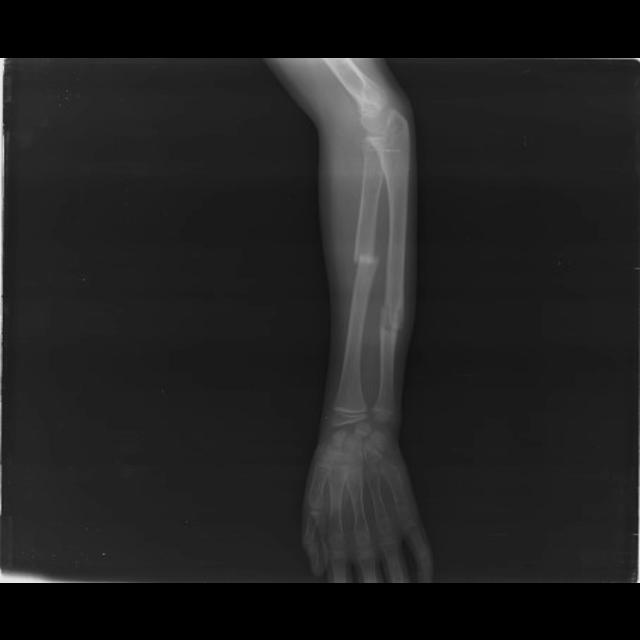fractured: (378, 293, 406, 336), (350, 244, 383, 270)
